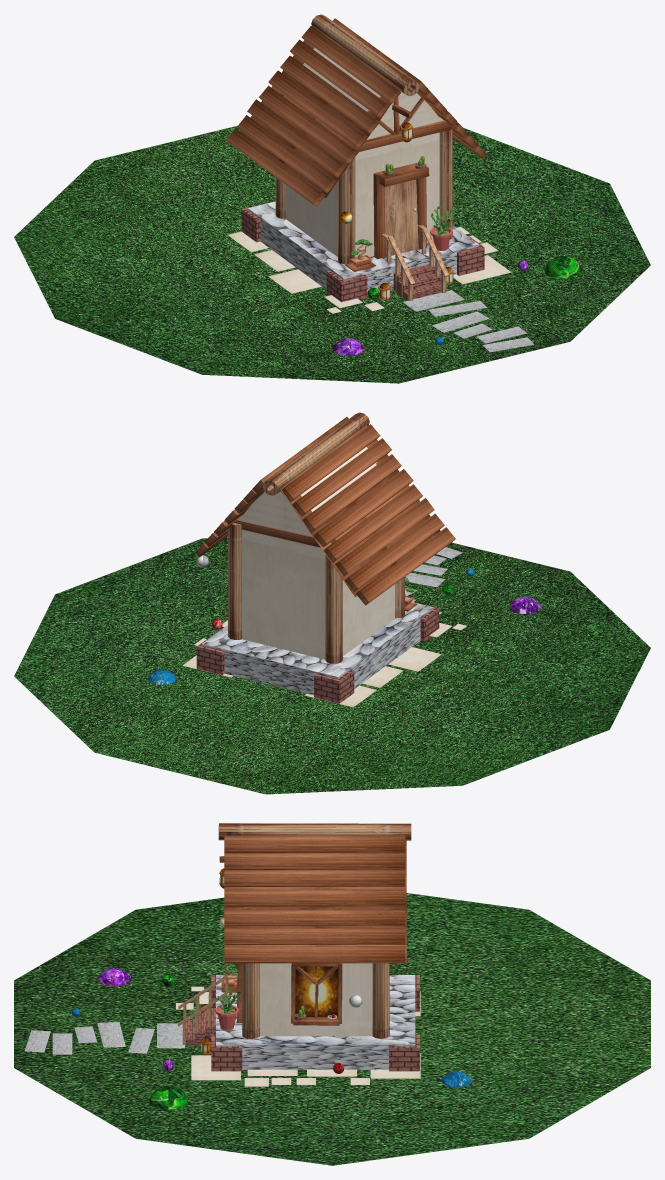
3 views of the same model, one above another, from view 1: azimuth 30°, elevation 25°; view 2: azimuth 150°, elevation 25°; view 3: azimuth 270°, elevation 25° (orthographic). The views are drawn at different scales.
Parts seen in each view (by area): view 1: 046_CirclePlane, 132_Box_5_-_baked, 137_Box, 079_Box_45, 125_SquarePlane, 124_Tube, 117_Box_15, 118_Box_16, 119_Box_17, 116_Box_14, 115_Box_13, 122_Box_23 (+16 smaller); view 2: 046_CirclePlane, 132_Box_5_-_baked, 137_Box, 125_SquarePlane, 124_Tube, 116_Box_14, 118_Box_16, 119_Box_17, 117_Box_15, 121_Box_19, 122_Box_23, 115_Box_13 (+7 smaller); view 3: 046_CirclePlane, 137_Box, 132_Box_5_-_baked, 076_Box_6, 112_Box_9, 114_Box_11, 111_Box_8, 110_Box_7, 113_Box_10, 123_Box_12, 124_Tube, 126_SquarePlane_1 (+10 smaller).
Part boxes in pixels (x1=…): 046_CirclePlane: x1=14, y1=125, x2=650, y2=383; 132_Box_5_-_baked: x1=285, y1=47, x2=443, y2=257; 137_Box: x1=248, y1=201, x2=479, y2=296; 079_Box_45: x1=384, y1=179, x2=418, y2=256; 125_SquarePlane: x1=240, y1=26, x2=401, y2=198; 124_Tube: x1=311, y1=14, x2=419, y2=96; 117_Box_15: x1=280, y1=56, x2=379, y2=133; 118_Box_16: x1=268, y1=70, x2=367, y2=148; 119_Box_17: x1=258, y1=85, x2=358, y2=163; 116_Box_14: x1=290, y1=39, x2=389, y2=117; 115_Box_13: x1=301, y1=25, x2=401, y2=103; 122_Box_23: x1=226, y1=128, x2=325, y2=206; 046_CirclePlane: x1=14, y1=537, x2=650, y2=794; 132_Box_5_-_baked: x1=237, y1=447, x2=395, y2=659; 137_Box: x1=202, y1=602, x2=433, y2=695; 125_SquarePlane: x1=280, y1=425, x2=440, y2=597; 124_Tube: x1=262, y1=412, x2=369, y2=495; 116_Box_14: x1=292, y1=438, x2=391, y2=516; 118_Box_16: x1=313, y1=469, x2=413, y2=547; 119_Box_17: x1=324, y1=484, x2=422, y2=562; 117_Box_15: x1=302, y1=454, x2=401, y2=532; 121_Box_19: x1=345, y1=513, x2=444, y2=591; 122_Box_23: x1=356, y1=527, x2=455, y2=605; 115_Box_13: x1=280, y1=424, x2=380, y2=502; 046_CirclePlane: x1=14, y1=893, x2=650, y2=1165; 137_Box: x1=216, y1=975, x2=415, y2=1069; 132_Box_5_-_baked: x1=259, y1=963, x2=372, y2=1036; 076_Box_6: x1=224, y1=946, x2=405, y2=963; 112_Box_9: x1=224, y1=889, x2=405, y2=906; 114_Box_11: x1=224, y1=835, x2=405, y2=852; 111_Box_8: x1=224, y1=909, x2=405, y2=926; 110_Box_7: x1=224, y1=928, x2=405, y2=944; 113_Box_10: x1=224, y1=870, x2=405, y2=886; 123_Box_12: x1=224, y1=853, x2=405, y2=869; 124_Tube: x1=218, y1=823, x2=411, y2=840; 126_SquarePlane_1: x1=224, y1=839, x2=406, y2=962.
Bounding box in the file's own units: 367 × 180 × 349.
